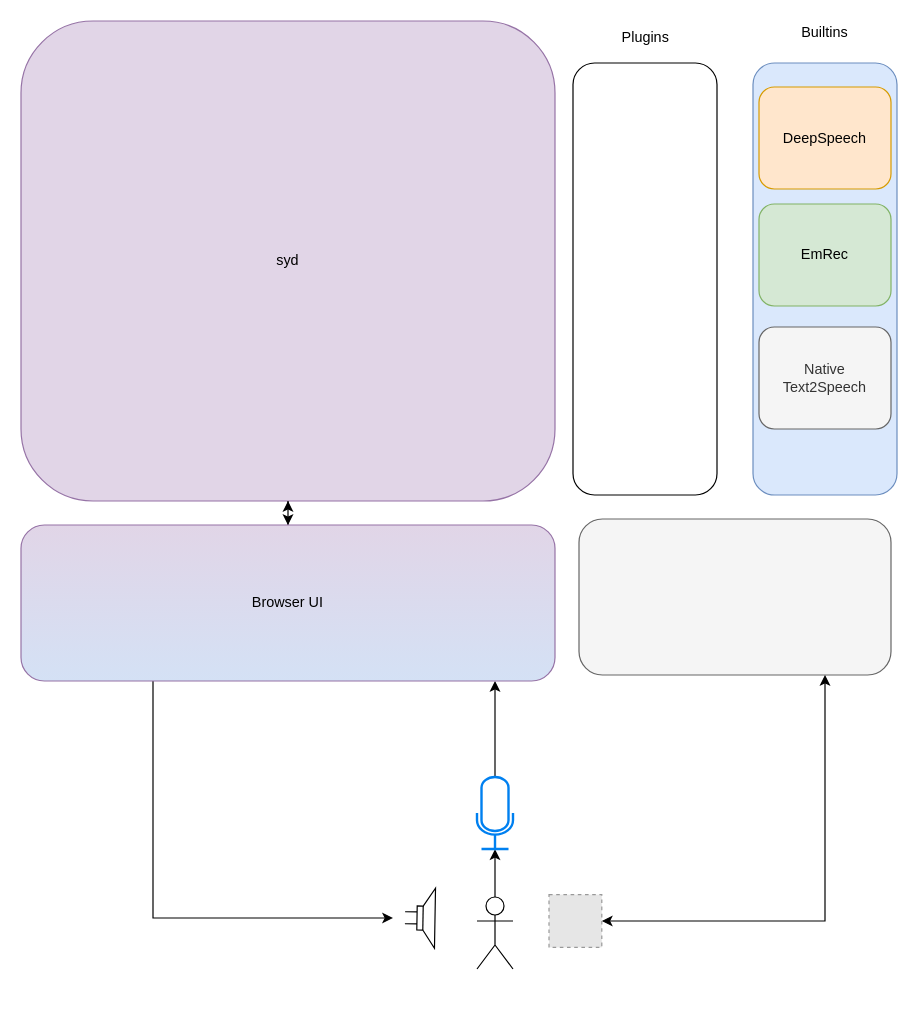
This 918x1015 diagram has some shape labels left out. Grey dashed boxes stand in for pictures. The shapes that lost their labels are listed below. From the top down, each one's centre as x and y in pixels, then its label:
(x=734, y=596): Plugin Manager
(x=494, y=932): User
